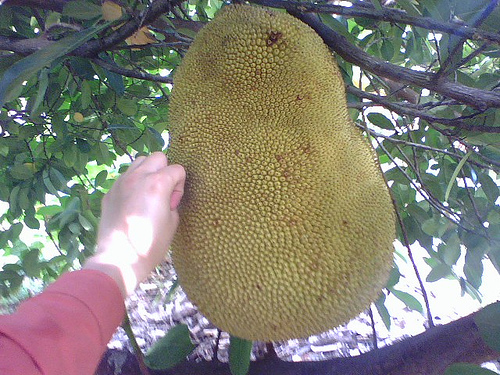jackfruit: (167, 5, 401, 342)
